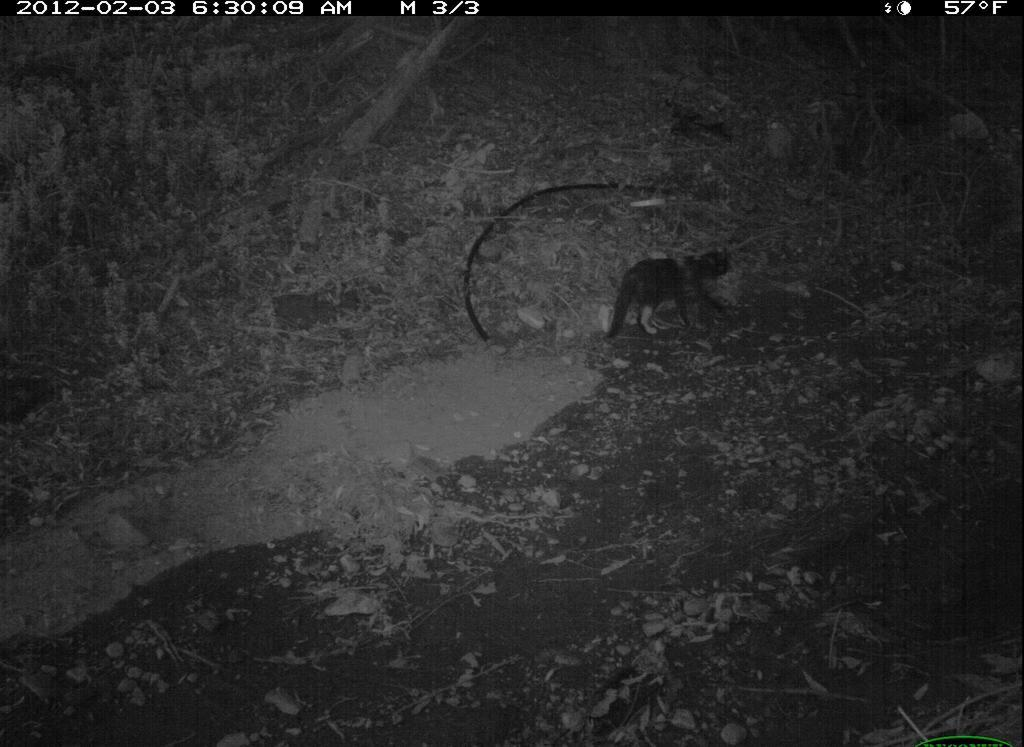cat: (601, 240, 743, 359)
